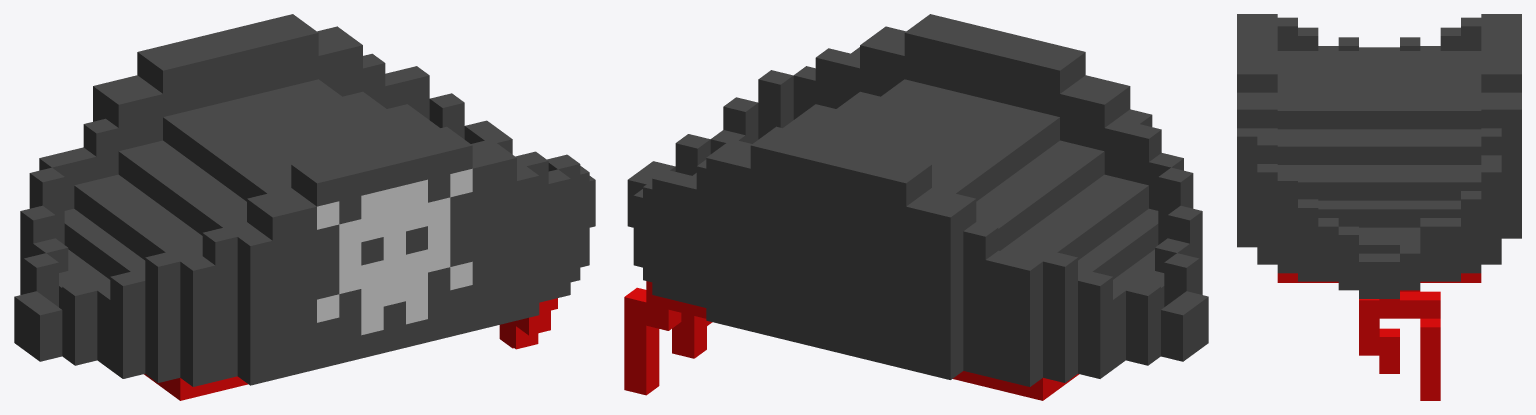
Rendered from accessories_head_piratehat.glb.
3 views of the same model, side by side, from view 1: azimuth 30°, elevation 25°; view 2: azimuth 150°, elevation 25°; view 3: azimuth 270°, elevation 25° (orthographic). The views are drawn at different scales.
Visible parts, largest first — view 1: model_0, model_0.001; view 2: model_0, model_0.001; view 3: model_0, model_0.001.
Part boxes in pixels (x1,y1,x2,y2): model_0: (14,14,595,386); model_0.001: (144,298,557,400); model_0: (627,14,1208,386); model_0.001: (624,281,1079,400); model_0: (1237,14,1521,298); model_0.001: (1277,273,1481,400).
Size of the model in its own units: 25 by 14 by 14.
